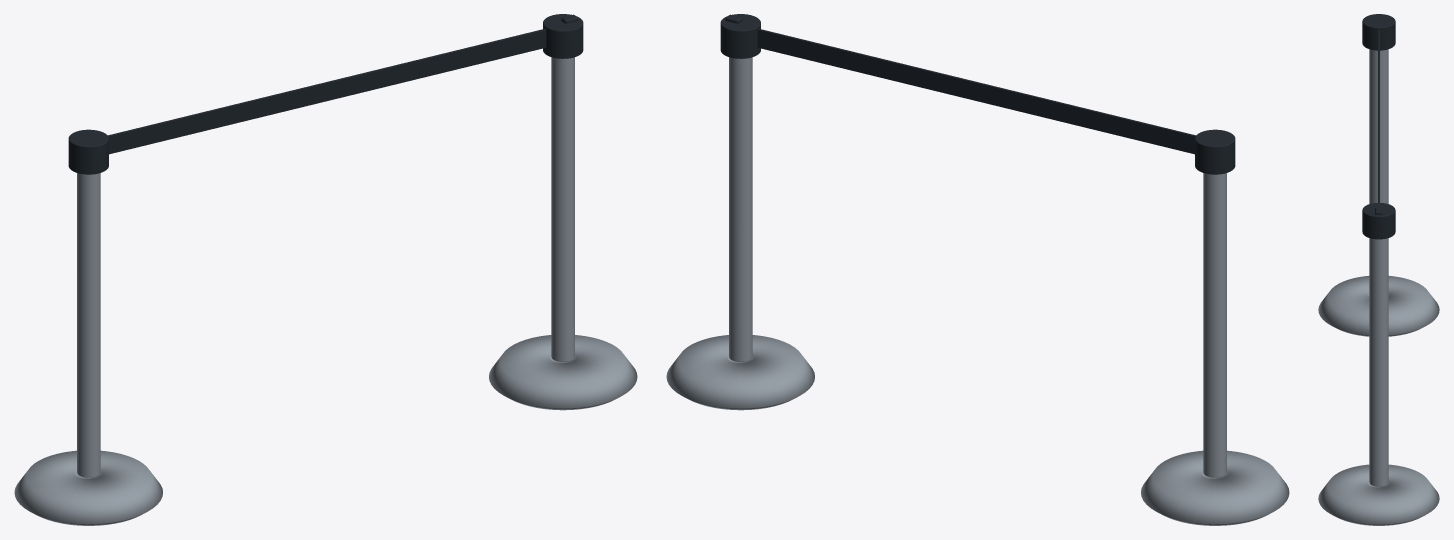
The model's file is queue-post.glb.
3 renders of one model, left to right at view 1: azimuth 30°, elevation 25°; view 2: azimuth 150°, elevation 25°; view 3: azimuth 270°, elevation 25°, orthographic. The views are drawn at different scales.
Parts seen in each view (by area): view 1: Queue post weighted base, Extended woven fabric barrier belt, Belt attachment hook; view 2: Queue post weighted base, Extended woven fabric barrier belt, Belt attachment hook; view 3: Queue post weighted base, Belt attachment hook, Extended woven fabric barrier belt.
Part boxes in pixels (bbox=[...]): Queue post weighted base: bbox=[14, 57, 637, 525]; Extended woven fabric barrier belt: bbox=[108, 29, 546, 154]; Belt attachment hook: bbox=[68, 14, 583, 174]; Queue post weighted base: bbox=[666, 57, 1289, 525]; Extended woven fabric barrier belt: bbox=[757, 29, 1195, 154]; Belt attachment hook: bbox=[720, 14, 1235, 174]; Queue post weighted base: bbox=[1318, 49, 1439, 525]; Belt attachment hook: bbox=[1362, 14, 1395, 239]; Extended woven fabric barrier belt: bbox=[1378, 29, 1379, 202].
Size of the model in its own units: 1.78 by 1.02 by 0.38.
3 materials, 3 textured.
